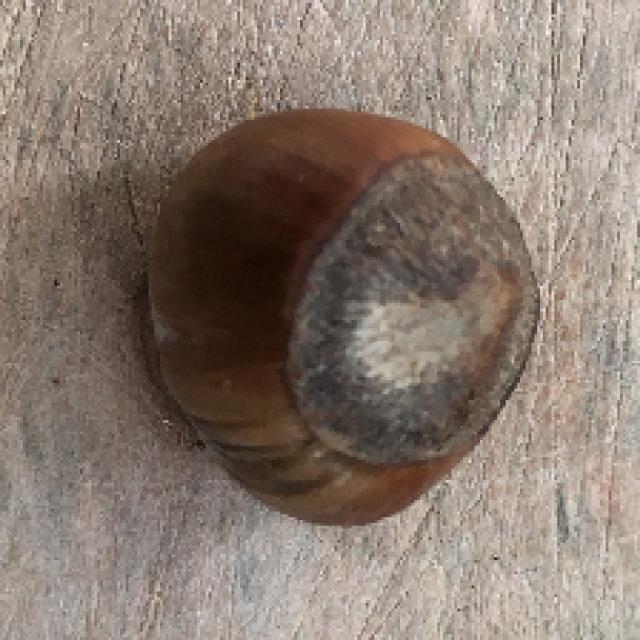qualityHazelnut: (148, 101, 540, 532)
